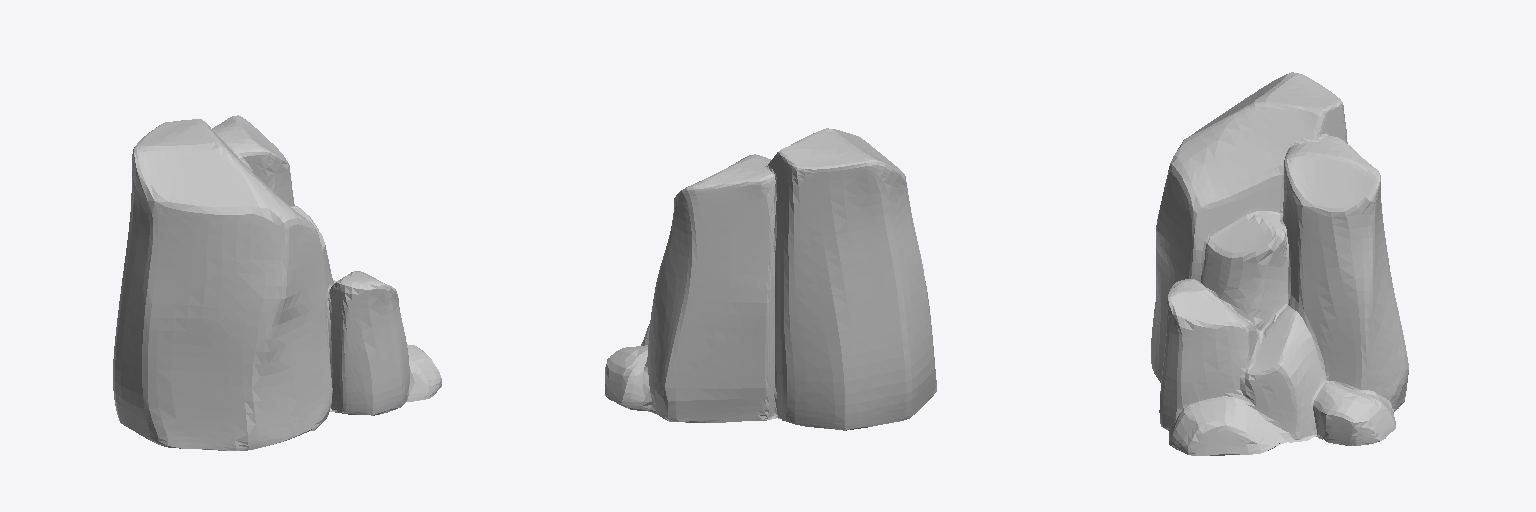
Rendered from Rocks1.OBJ.
3 renders of one model, left to right at view 1: azimuth 30°, elevation 25°; view 2: azimuth 150°, elevation 25°; view 3: azimuth 270°, elevation 25°, orthographic.
Parts seen in each view (by area): view 1: Rocks1a1:Group2; view 2: Rocks1a1:Group2; view 3: Rocks1a1:Group2.
Part boxes in pixels (bbox=[...]): Rocks1a1:Group2: bbox=[113, 115, 441, 450]; Rocks1a1:Group2: bbox=[605, 128, 936, 430]; Rocks1a1:Group2: bbox=[1151, 72, 1408, 455].
Size of the model in its own units: 4.2 by 3.7 by 3.31.